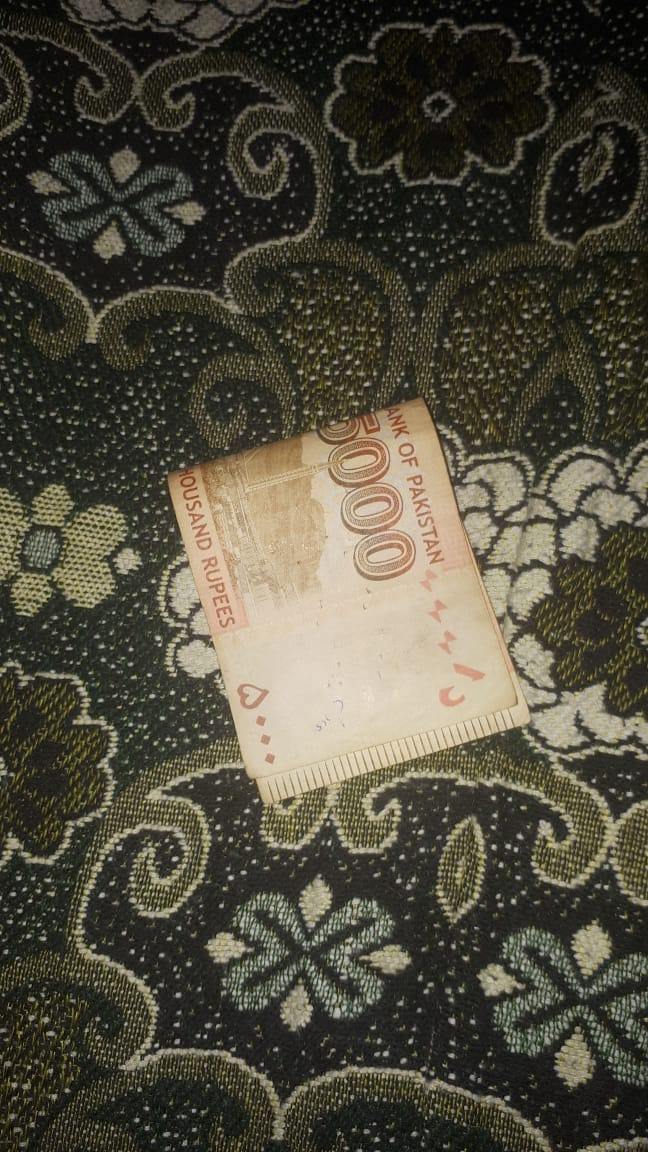5000 rupee: (148, 314, 537, 853)
